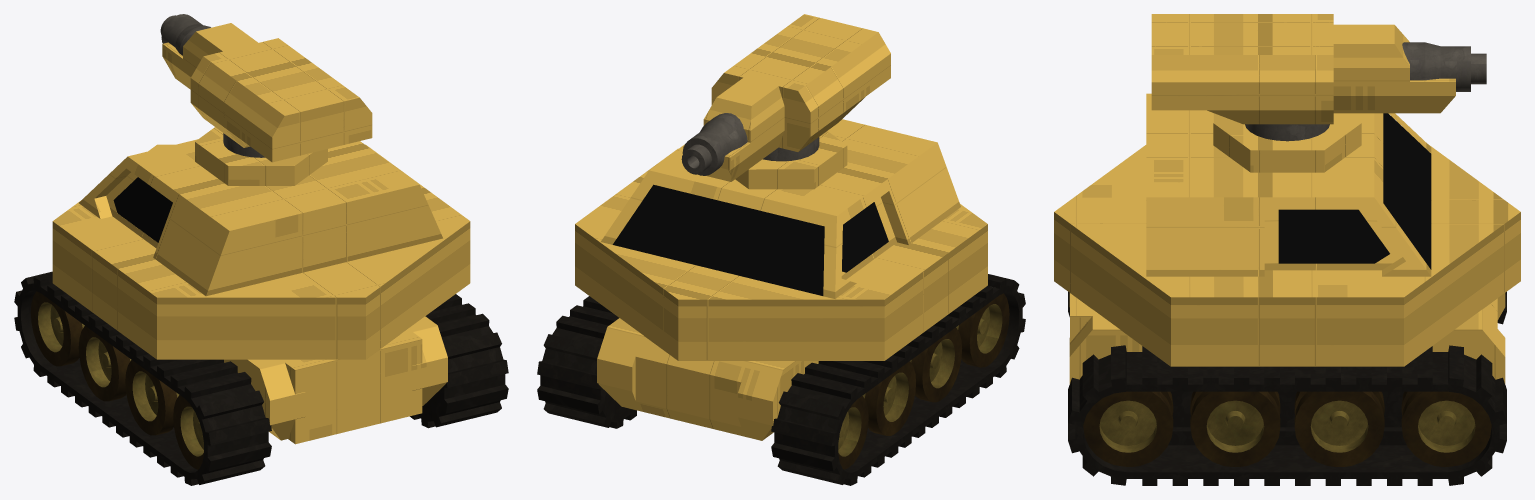
The model's file is HexTankFinalDraco.glb.
3 views of the same model, side by side, from view 1: azimuth 30°, elevation 25°; view 2: azimuth 150°, elevation 25°; view 3: azimuth 270°, elevation 25° (orthographic). The views are drawn at different scales.
Visible parts, largest first — view 1: mergedBlocks(Clone); view 2: mergedBlocks(Clone); view 3: mergedBlocks(Clone).
Boxes of the visible parts, bbox=[...] form: mergedBlocks(Clone): bbox=[14, 14, 508, 485]; mergedBlocks(Clone): bbox=[537, 14, 1025, 485]; mergedBlocks(Clone): bbox=[1054, 14, 1520, 485].
Size of the model in its own units: 1.32 by 1.33 by 1.52.
7 materials, 6 textured.
